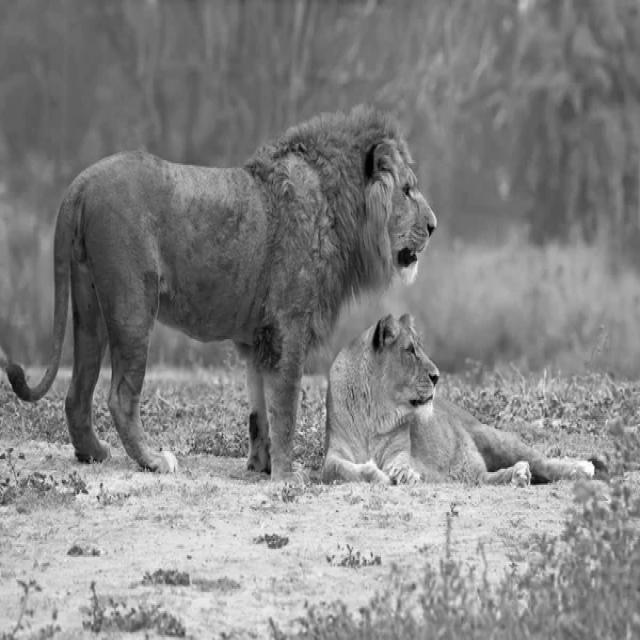Animal: (6, 109, 436, 482), (324, 314, 596, 484)
